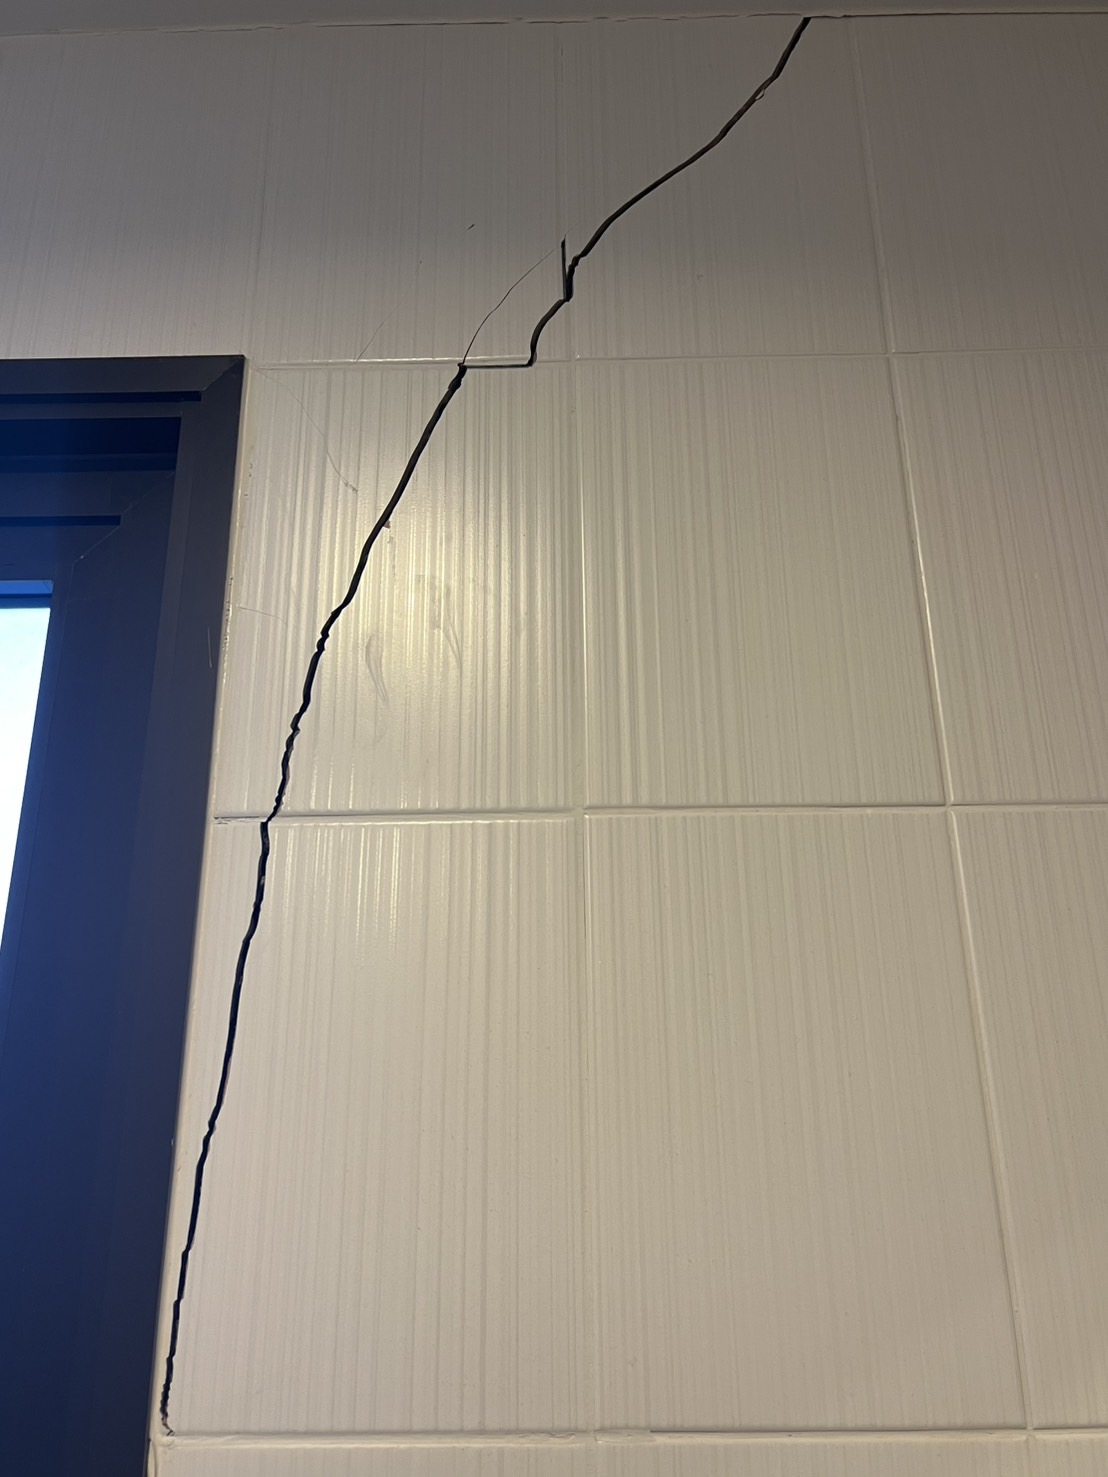Medium: (236, 189, 726, 937)
